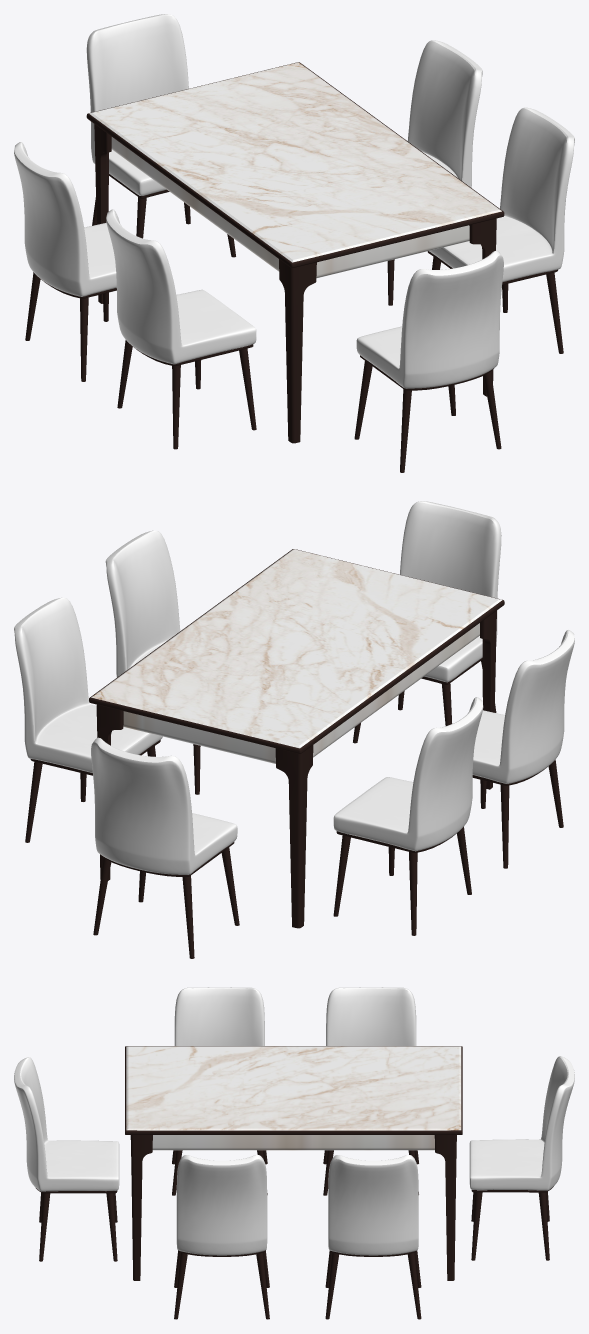
Rendered from dining2.glb.
3 views of the same model, one above another, from view 1: azimuth 30°, elevation 25°; view 2: azimuth 150°, elevation 25°; view 3: azimuth 270°, elevation 25° (orthographic). The views are drawn at different scales.
Parts seen in each view (by area): view 1: table, chair.001, chair.002, chair.004, chair.003, chair, chair.005; view 2: table, chair, chair.003, chair.005, chair.002, chair.001, chair.004; view 3: table, chair.004, chair.005, chair, chair.001, chair.003, chair.002.
Part boxes in pixels (x1=…): table: x1=86, y1=62, x2=504, y2=443; chair.001: x1=354, y1=250, x2=503, y2=472; chair.002: x1=106, y1=209, x2=256, y2=449; chair.004: x1=427, y1=107, x2=574, y2=353; chair.003: x1=14, y1=142, x2=116, y2=381; chair: x1=86, y1=14, x2=235, y2=257; chair.005: x1=387, y1=40, x2=482, y2=305; table: x1=89, y1=549, x2=504, y2=928; chair: x1=91, y1=737, x2=239, y2=958; chair.003: x1=333, y1=697, x2=483, y2=935; chair.005: x1=14, y1=597, x2=162, y2=842; chair.002: x1=472, y1=630, x2=574, y2=868; chair.001: x1=353, y1=501, x2=501, y2=743; chair.004: x1=105, y1=530, x2=200, y2=794; table: x1=125, y1=1046, x2=462, y2=1280; chair.004: x1=174, y1=1155, x2=269, y2=1319; chair.005: x1=325, y1=1155, x2=421, y2=1319; chair: x1=469, y1=1056, x2=574, y2=1260; chair.001: x1=14, y1=1057, x2=119, y2=1261; chair.003: x1=323, y1=987, x2=418, y2=1195; chair.002: x1=172, y1=987, x2=267, y2=1195.
Bounding box in the file's own units: 1.22 × 0.5399 × 1.62.
Materials: 3 (1 with a texture image).
